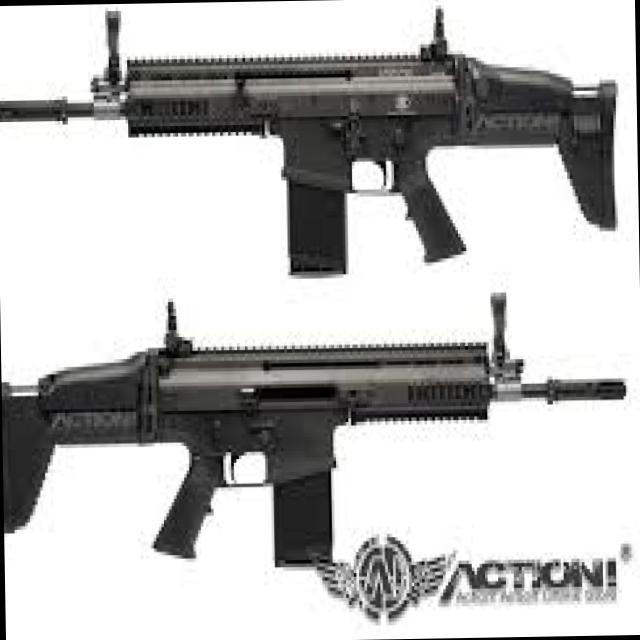Gun: (0, 275, 640, 589), (0, 0, 639, 307)
